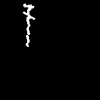double_crochet: (23, 4, 34, 46)
